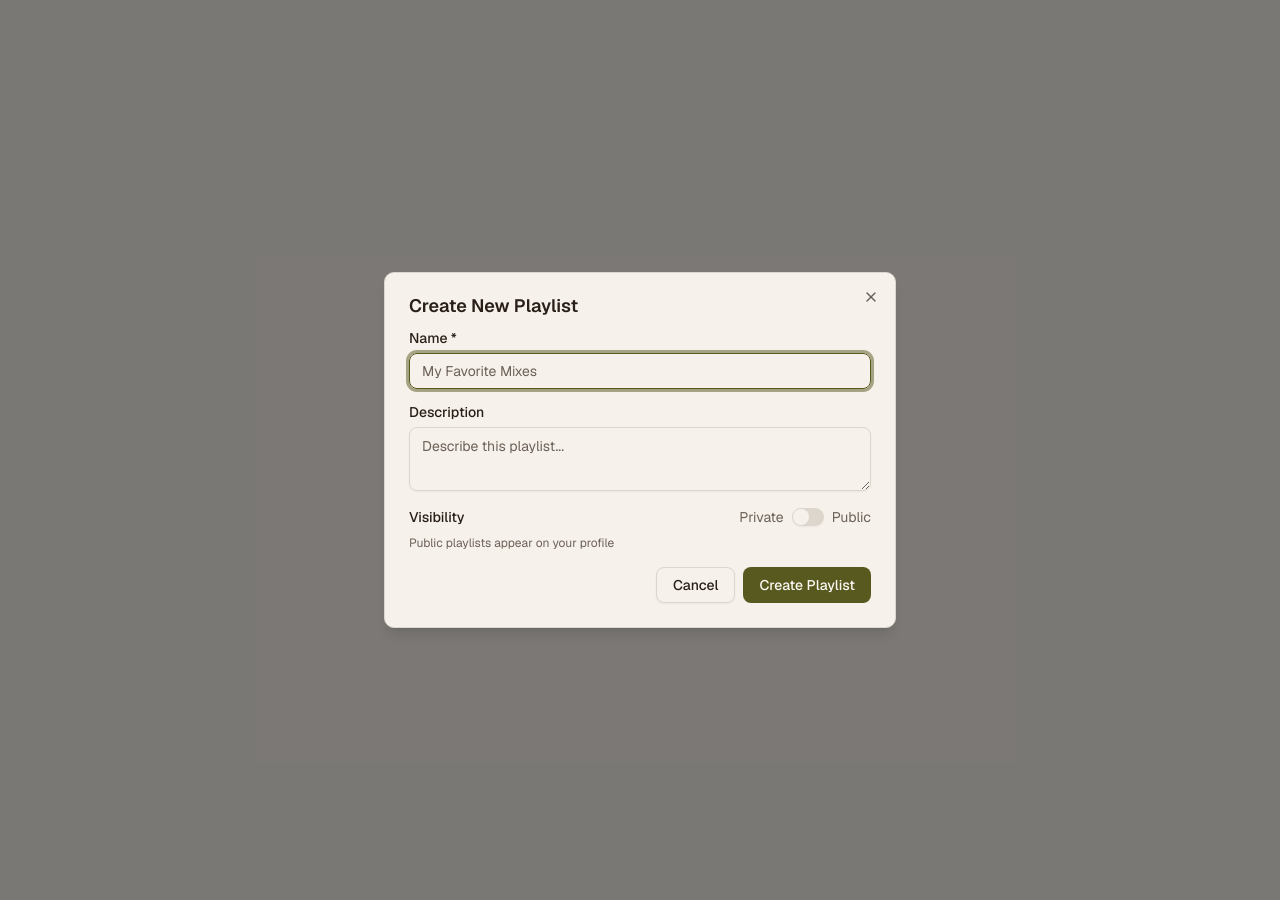
Test: CreatePlaylistDialog › should handle network errors
This screenshot has width=1280, height=900.
Type "Test" into the field labelled "Name *" at x=640, y=371, box top-left (409, 353), bottom-right (871, 389)
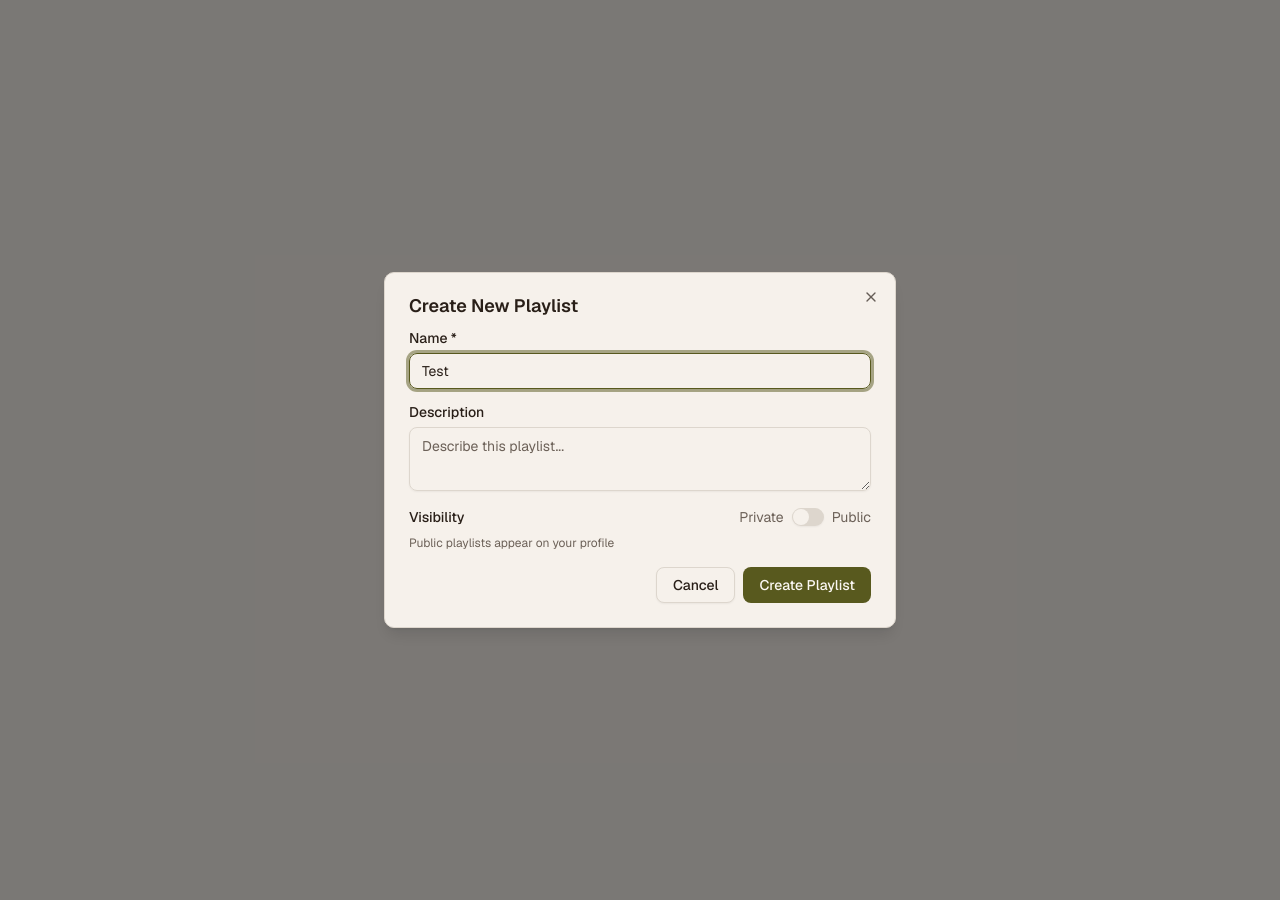
Click the button "Create Playlist" at x=807, y=585, box top-left (744, 567), bottom-right (871, 603)
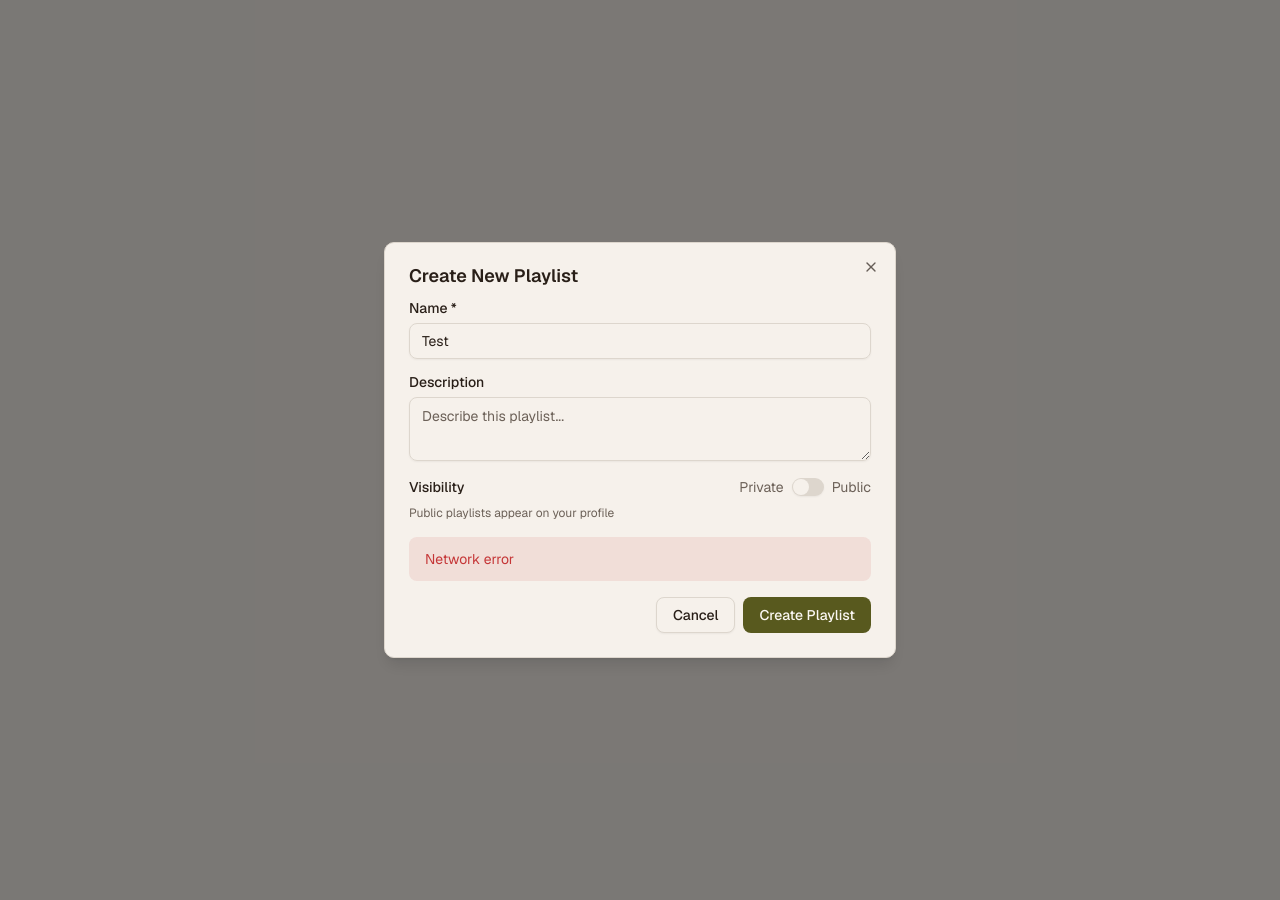
Expected: the text "Network error" is shown, top-left (409, 537), bottom-right (871, 581)
